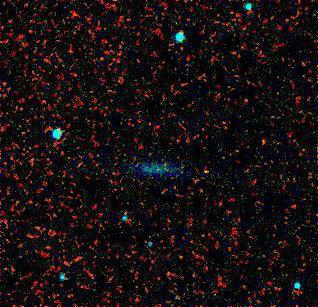star: (193, 158, 223, 188)
